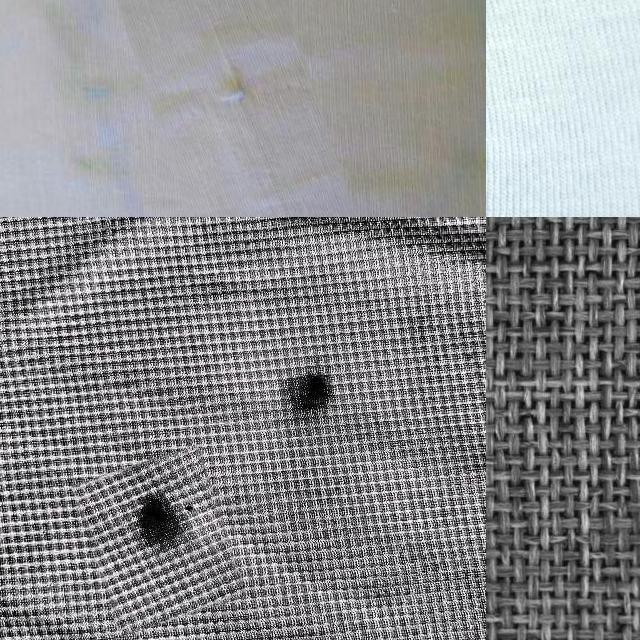Hole: (82, 450, 237, 628), (240, 338, 413, 458)
Thread_other: (127, 0, 343, 217)
